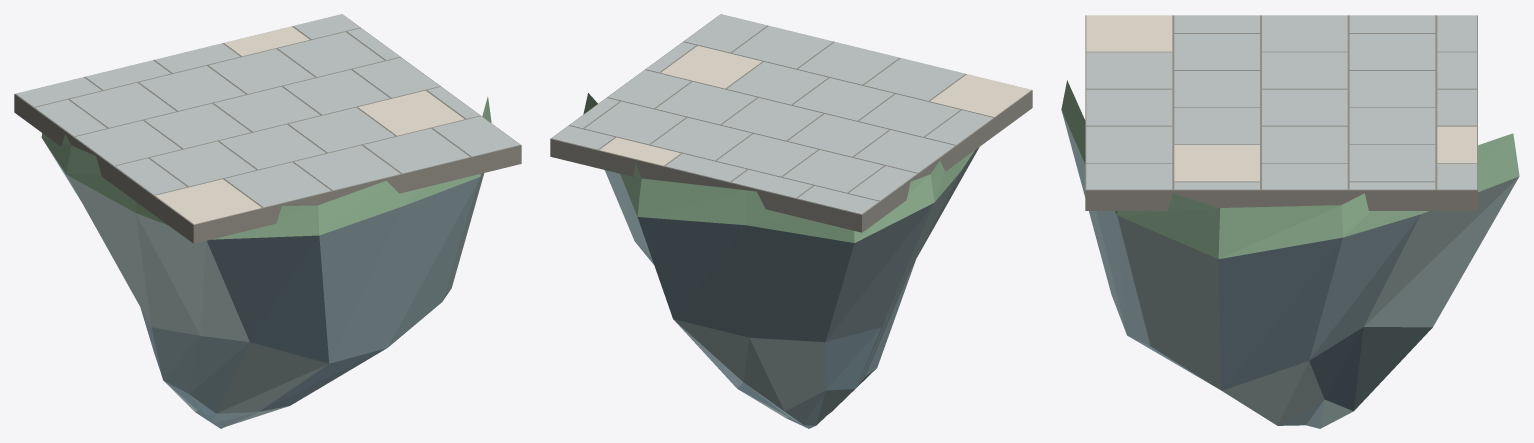
Rendered from FloatingIsland17.glb.
The picture shows the model from 3 angles, left to right: view 1: azimuth 30°, elevation 25°; view 2: azimuth 150°, elevation 25°; view 3: azimuth 270°, elevation 25°; orthographic projection. The views are drawn at different scales.
Parts seen in each view (by area): view 1: FloatingIsland17; view 2: FloatingIsland17; view 3: FloatingIsland17.
Part boxes in pixels (<box>): FloatingIsland17: <box>14,14,521,428</box>; FloatingIsland17: <box>550,14,1032,428</box>; FloatingIsland17: <box>1061,15,1519,428</box>.
Bounding box in the file's own units: 5.65 × 4.52 × 5.49.
